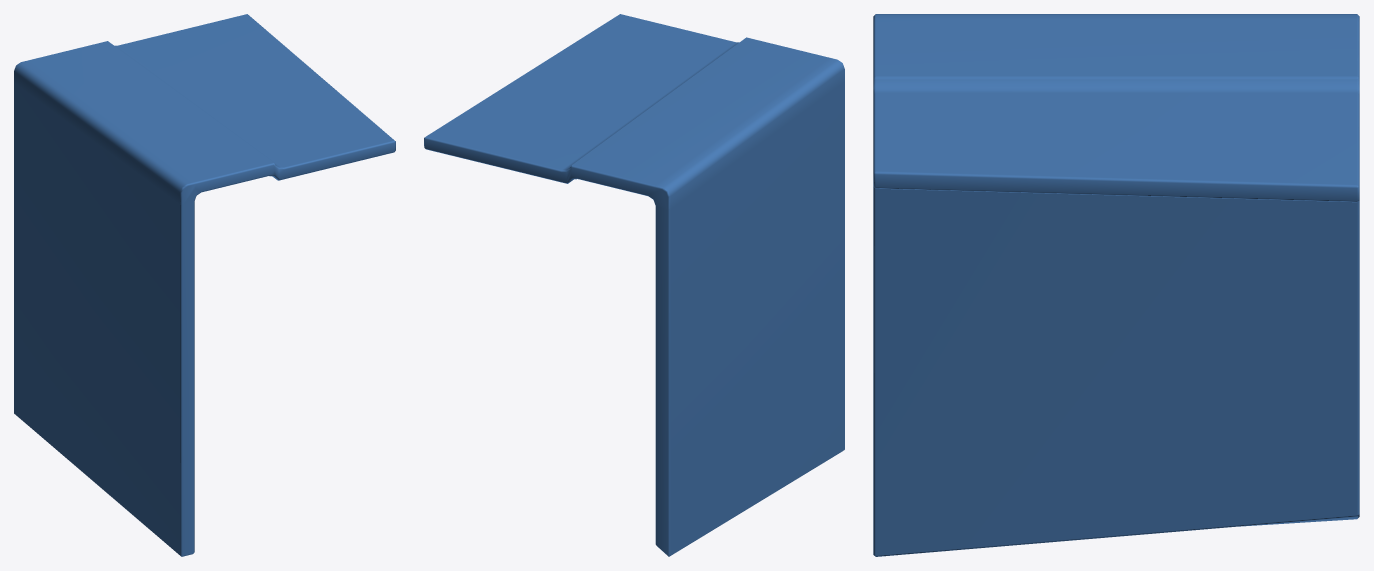
File: giant2benchcloth.fbx
3 renders of one model, left to right at view 1: azimuth 30°, elevation 25°; view 2: azimuth 150°, elevation 25°; view 3: azimuth 270°, elevation 25°, orthographic. The views are drawn at different scales.
Visible parts, largest first — view 1: polySurface1406; view 2: polySurface1406; view 3: polySurface1406.
Boxes of the visible parts, x1,y1,x2,y2 form: polySurface1406: [14, 14, 395, 556]; polySurface1406: [424, 14, 844, 556]; polySurface1406: [873, 14, 1359, 556].
Size of the model in its own units: 1.62 by 2.45 by 2.01.
